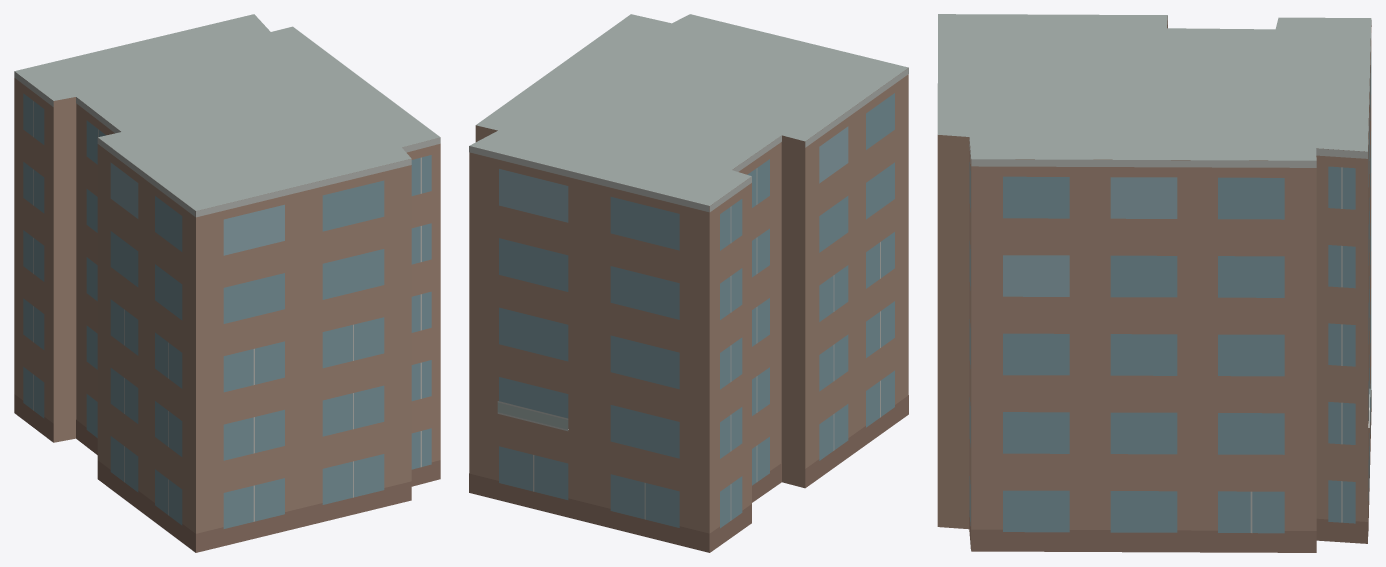
File: survey-upis-32951014.glb
3 views of the same model, side by side, from view 1: azimuth 30°, elevation 25°; view 2: azimuth 150°, elevation 25°; view 3: azimuth 270°, elevation 25° (orthographic). The views are drawn at different scales.
Parts seen in each view (by area): view 1: survey-upis-32951014.tmp; view 2: survey-upis-32951014.tmp; view 3: survey-upis-32951014.tmp.
Part boxes in pixels (x1=…): survey-upis-32951014.tmp: x1=14, y1=14, x2=440, y2=552; survey-upis-32951014.tmp: x1=469, y1=14, x2=908, y2=552; survey-upis-32951014.tmp: x1=937, y1=14, x2=1371, y2=552.
Size of the model in its own units: 10.55 by 13.15 by 13.19.
